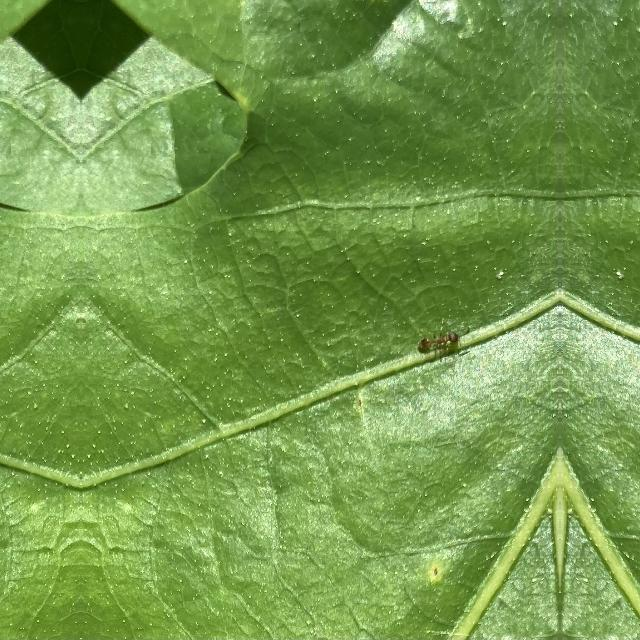Temnothorax: (411, 316, 463, 366)
